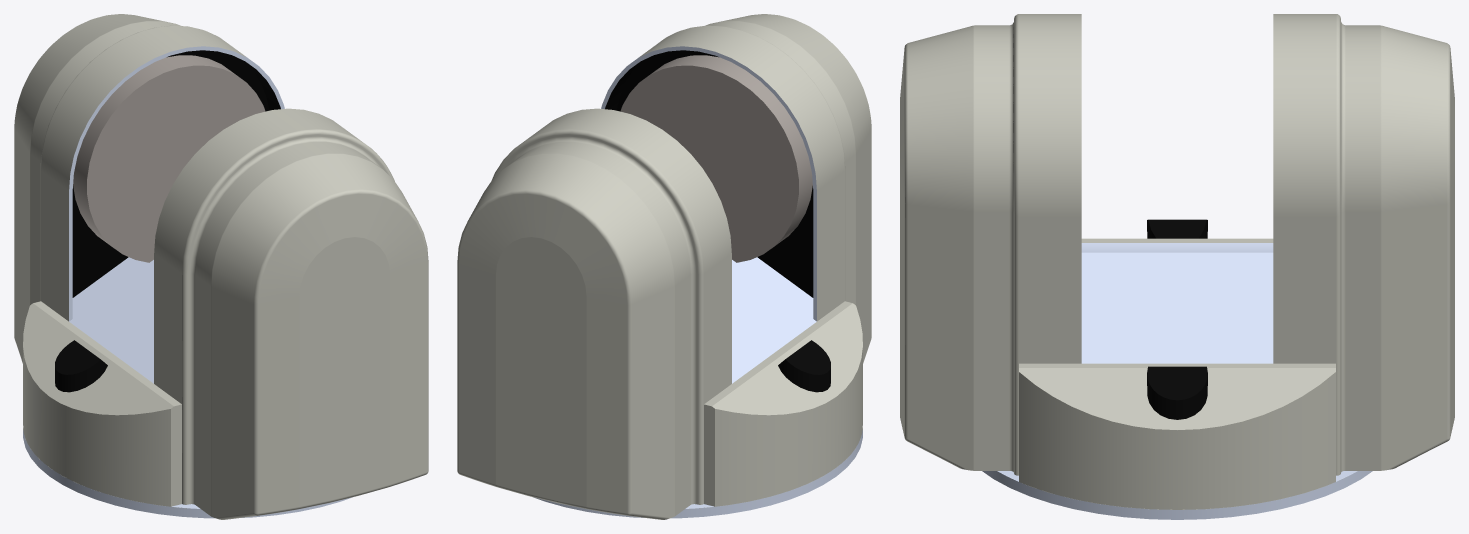
3 views of the same model, side by side, from view 1: azimuth 30°, elevation 25°; view 2: azimuth 150°, elevation 25°; view 3: azimuth 270°, elevation 25° (orthographic). The views are drawn at different scales.
Parts seen in each view (by area): view 1: L1; view 2: L1; view 3: L1.
Boxes of the visible parts, x1,y1,x2,y2 form: L1: (14, 14, 428, 519); L1: (457, 14, 871, 519); L1: (900, 14, 1454, 519).
Bounding box in the file's own units: 11.02 × 10.84 × 13.68.
